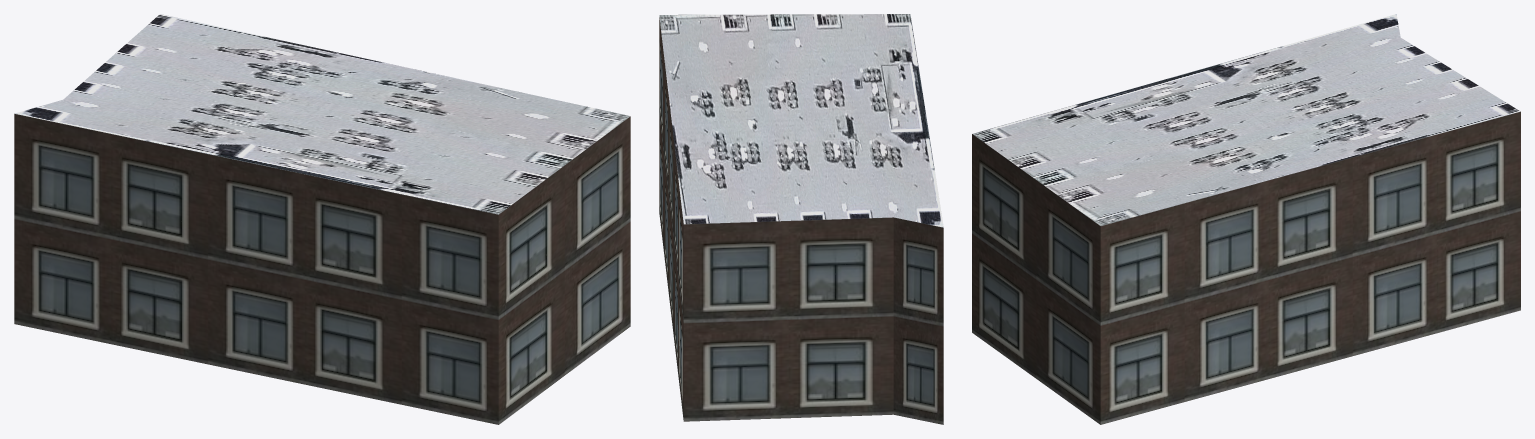
File: ResTex__4760.fbx
The picture shows the model from 3 angles, left to right: view 1: azimuth 30°, elevation 25°; view 2: azimuth 150°, elevation 25°; view 3: azimuth 270°, elevation 25°; orthographic projection. The views are drawn at different scales.
Visible parts, largest first — view 1: CityEngineMaterial_16_m, CityEngineMaterial_15_m; view 2: CityEngineMaterial_16_m, CityEngineMaterial_15_m; view 3: CityEngineMaterial_16_m, CityEngineMaterial_15_m.
Part boxes in pixels (box(x1,y1,x2,y2)): CityEngineMaterial_16_m: box(14, 113, 630, 424); CityEngineMaterial_15_m: box(15, 14, 630, 214); CityEngineMaterial_16_m: box(659, 17, 943, 424); CityEngineMaterial_15_m: box(659, 14, 943, 227); CityEngineMaterial_16_m: box(972, 111, 1520, 424); CityEngineMaterial_15_m: box(972, 14, 1520, 225).
Size of the model in its own units: 13.73 by 6 by 15.01.
Materials: 2 (2 with a texture image).
